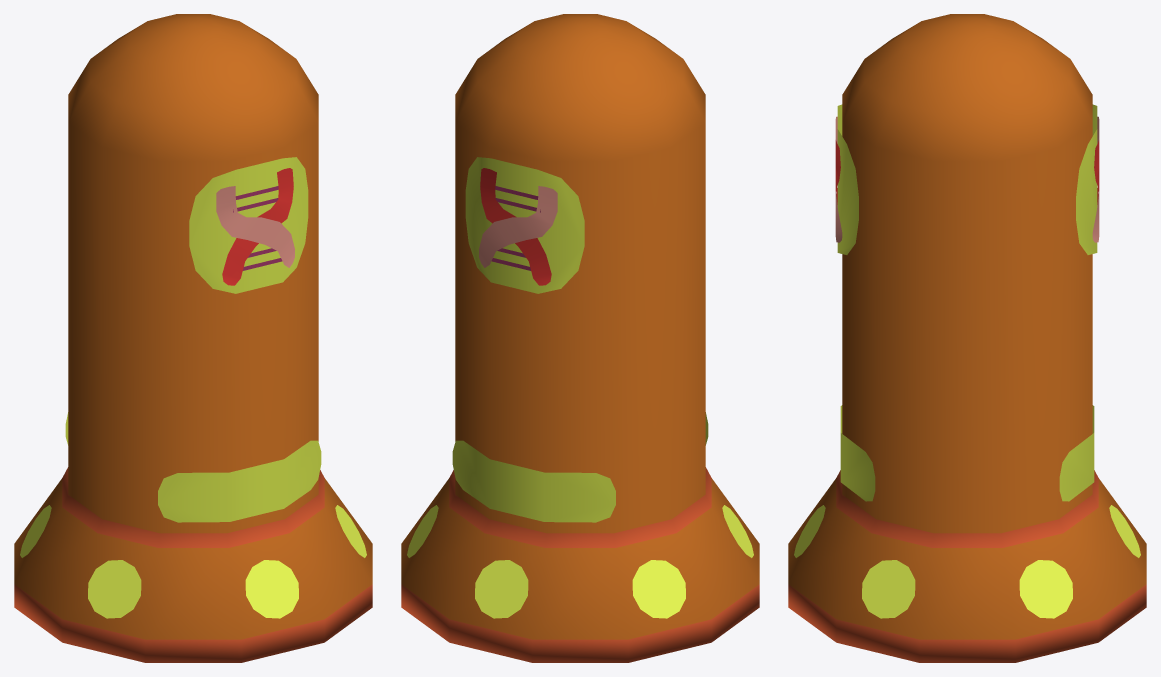
Rendered from map-quest.fbx.
3 views of the same model, side by side, from view 1: azimuth 30°, elevation 25°; view 2: azimuth 150°, elevation 25°; view 3: azimuth 270°, elevation 25° (orthographic).
Parts seen in each view (by area): view 1: yellowquest; view 2: yellowquest; view 3: yellowquest.
Part boxes in pixels (box(x1,y1,x2,y2)): yellowquest: box(14, 14, 372, 662); yellowquest: box(401, 14, 759, 662); yellowquest: box(788, 14, 1146, 662).
Bounding box in the file's own units: 50.67 × 87.71 × 50.67.
